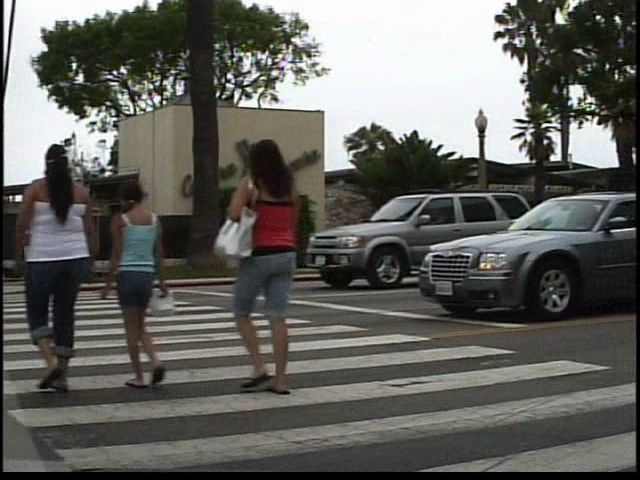person: (226, 135, 333, 403), (63, 141, 160, 401), (116, 176, 191, 401)
